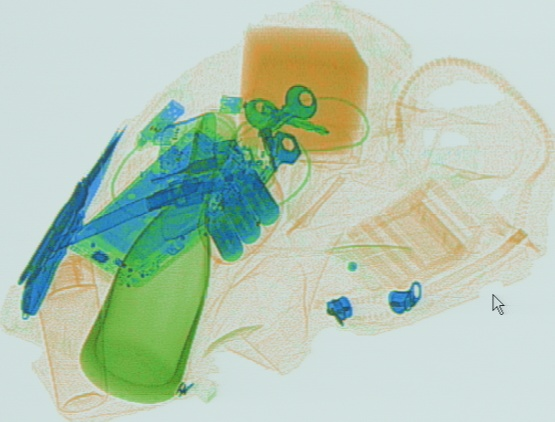knife: (20, 123, 122, 324), (15, 124, 127, 291)
powerbank: (191, 139, 291, 267)
